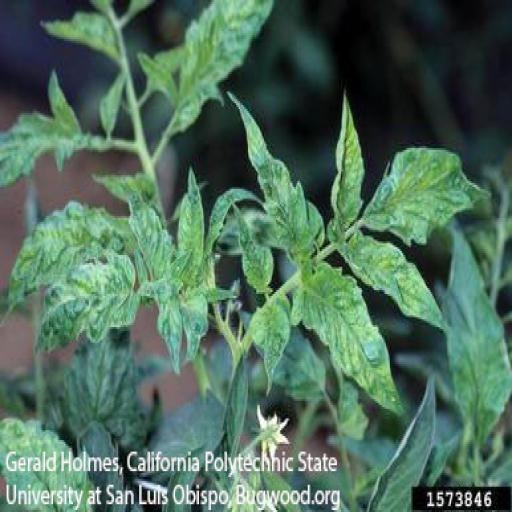Mosaic Virus: (292, 258, 416, 426), (356, 134, 492, 256), (226, 87, 318, 261), (334, 218, 452, 340), (28, 251, 138, 362), (170, 162, 210, 288), (254, 304, 294, 400)
